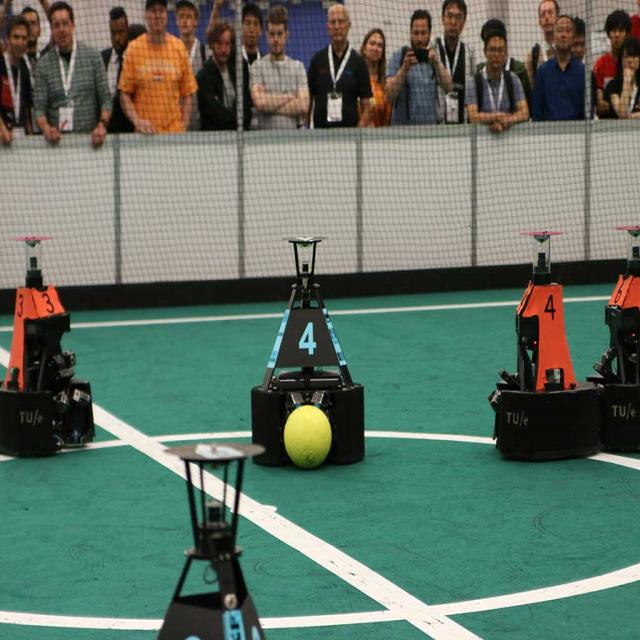Robots: (504, 217, 606, 462), (6, 222, 98, 479), (612, 206, 640, 458)
